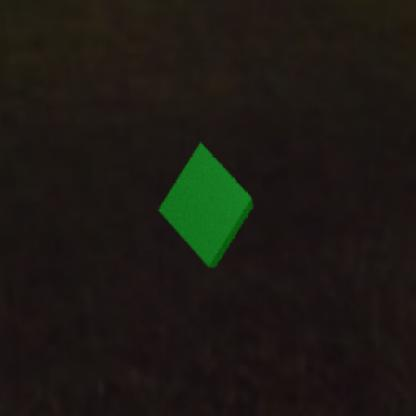green_cube: (158, 140, 254, 266)
